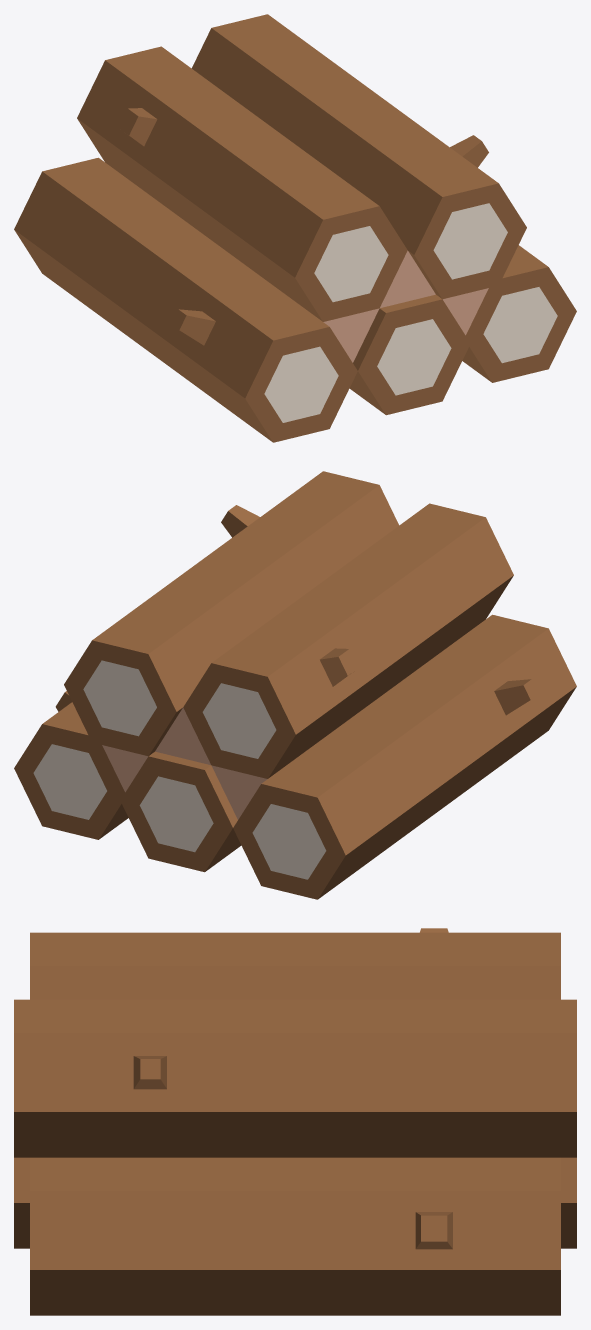
Rendered from log_stackLarge.glb.
3 renders of one model, top to bottom at view 1: azimuth 30°, elevation 25°; view 2: azimuth 150°, elevation 25°; view 3: azimuth 270°, elevation 25°, orthographic. The views are drawn at different scales.
Parts seen in each view (by area): view 1: log_stackLarge; view 2: log_stackLarge; view 3: log_stackLarge.
Part boxes in pixels (x1,y1,x2,y2): log_stackLarge: (14,14,576,442); log_stackLarge: (14,471,576,899); log_stackLarge: (14,928,576,1315).
Bounding box in the file's own units: 0.634 × 0.3464 × 0.71.
